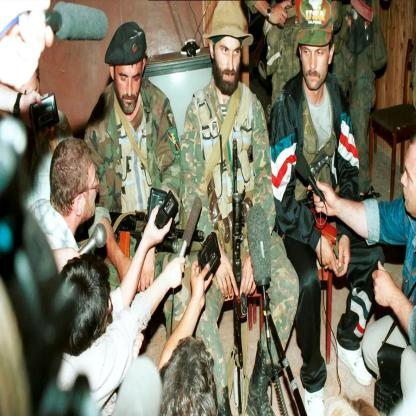rifle: (87, 206, 206, 273), (227, 139, 250, 370)
